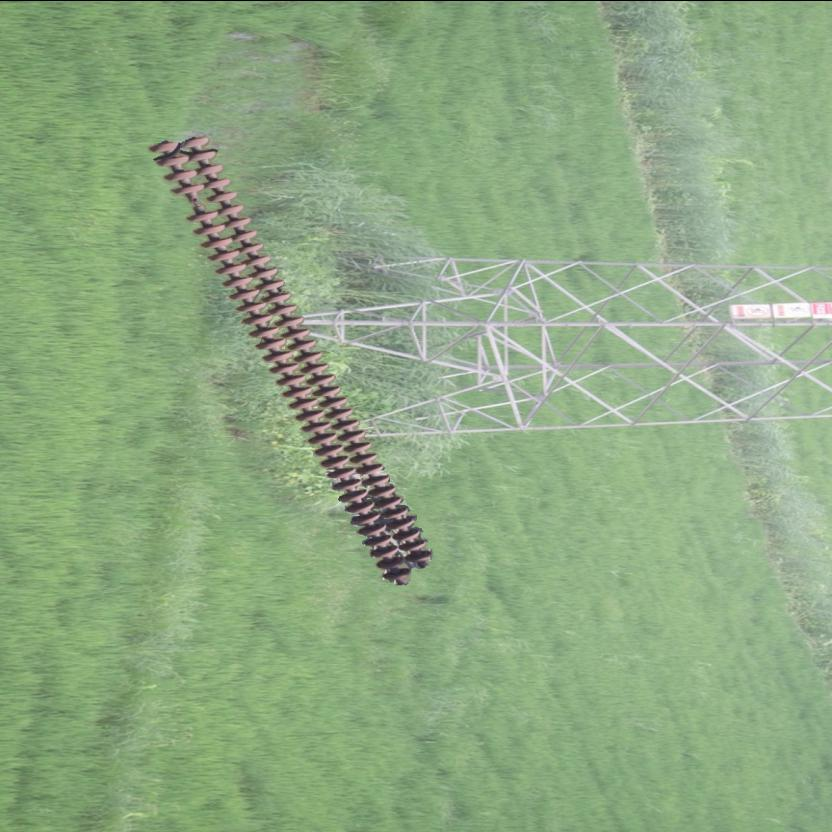defect: (172, 180, 224, 226)
